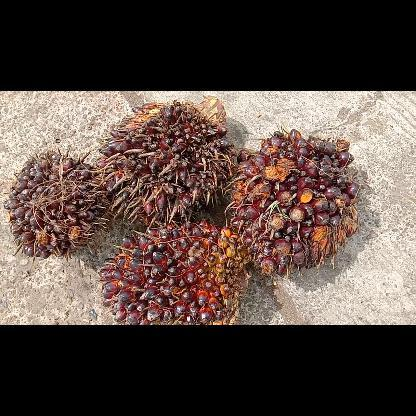Kurang masak: (226, 124, 361, 276), (94, 96, 235, 226), (99, 214, 253, 324), (3, 146, 112, 260)
